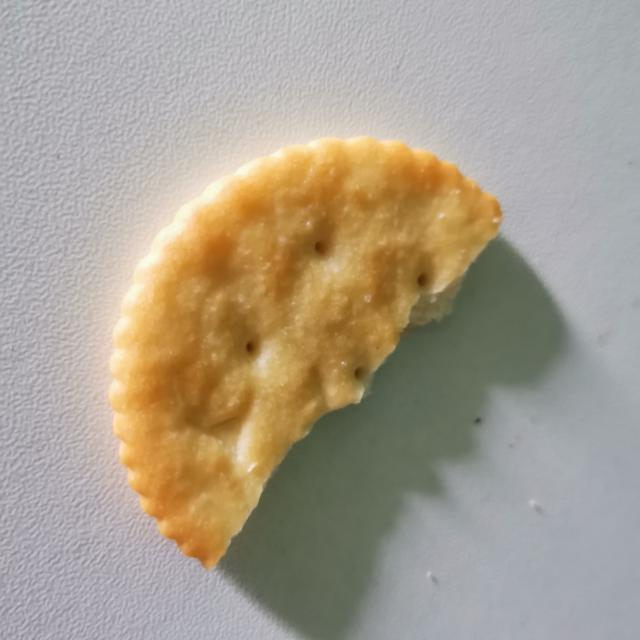Broken: (107, 133, 503, 571)
